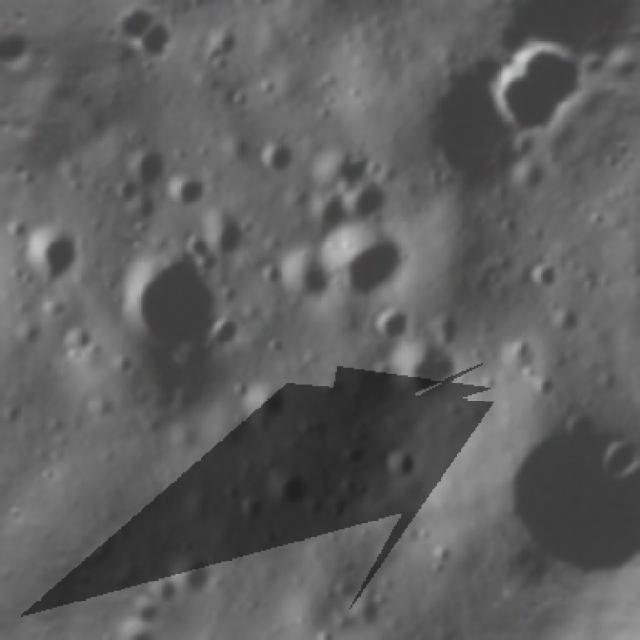crater: (466, 373, 640, 562), (105, 231, 248, 374), (308, 203, 420, 314), (378, 320, 482, 425), (471, 56, 575, 156), (5, 200, 101, 294), (288, 595, 457, 640), (248, 452, 328, 532), (108, 123, 184, 200), (185, 195, 261, 271), (158, 540, 235, 615), (311, 121, 387, 196), (341, 170, 416, 244), (240, 118, 312, 190), (235, 363, 307, 435), (158, 157, 228, 228), (521, 242, 581, 302), (132, 13, 190, 73), (376, 434, 430, 488), (32, 127, 70, 168), (0, 339, 8, 398), (635, 305, 640, 364)
